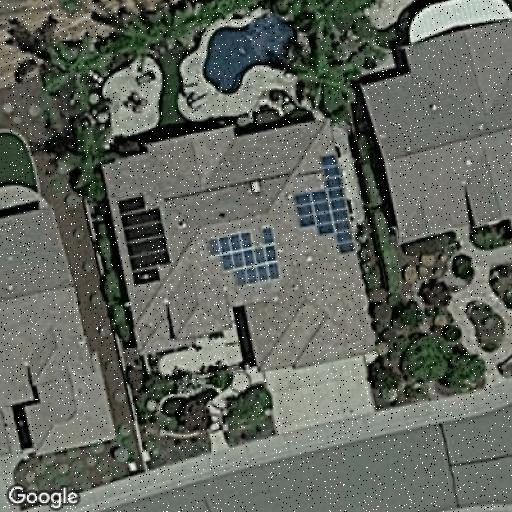solar-panel: (293, 152, 358, 256), (114, 194, 174, 288), (205, 226, 281, 286)
